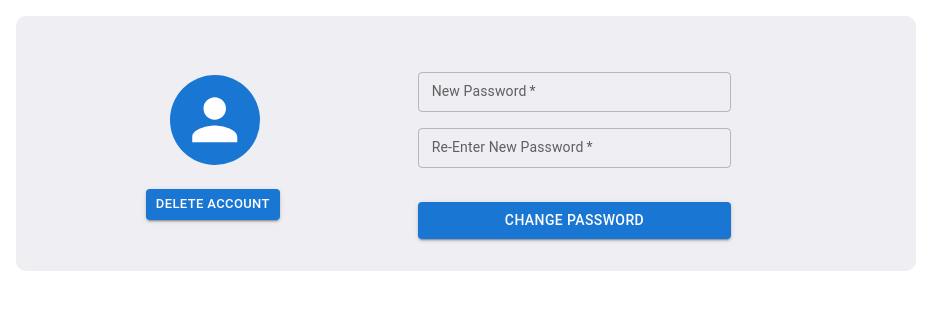
Profile Page: Password Card tests › should show error when passwords doesnt match
Type "abc" into the password field with test id "new-password-field". click: (575, 92)
box: 418,72 -> 731,112
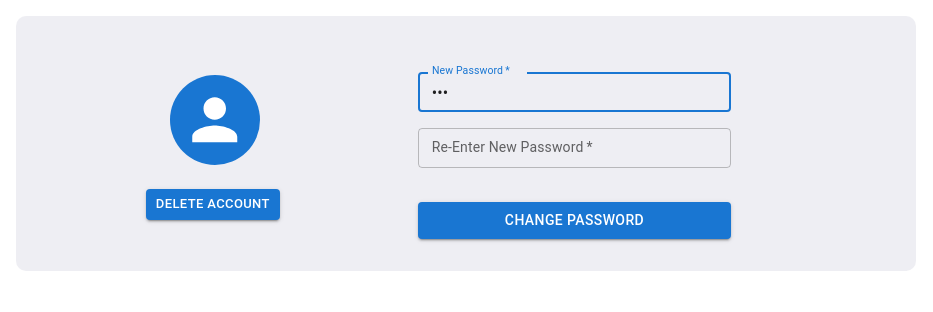
Type "abcd" into the password field with test id "re-enter-password-field". click: (575, 148)
box: 418,128 -> 731,168
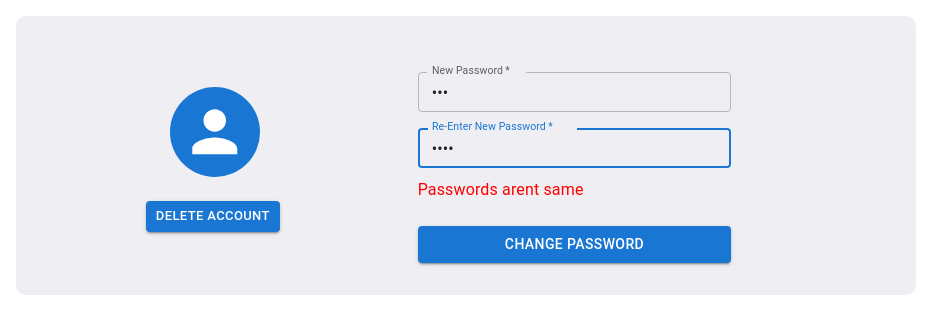
Now the text "Passwords arent same" is shown, box 418,178 -> 584,202
